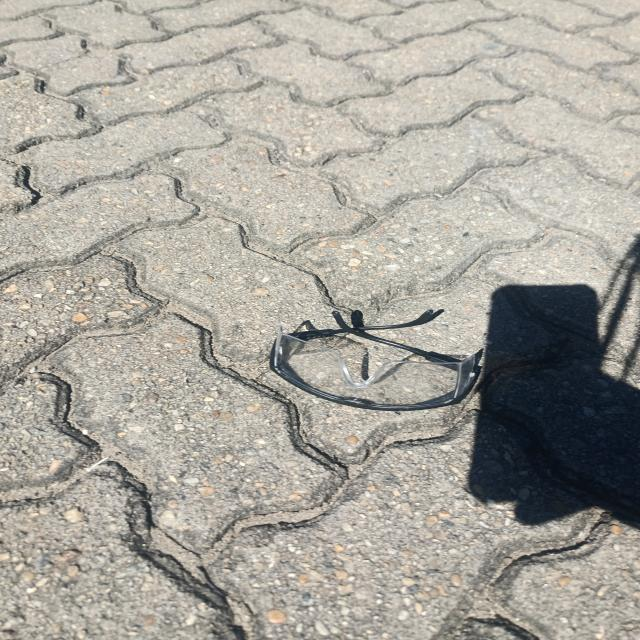oculos-epi: (270, 310, 482, 412)
